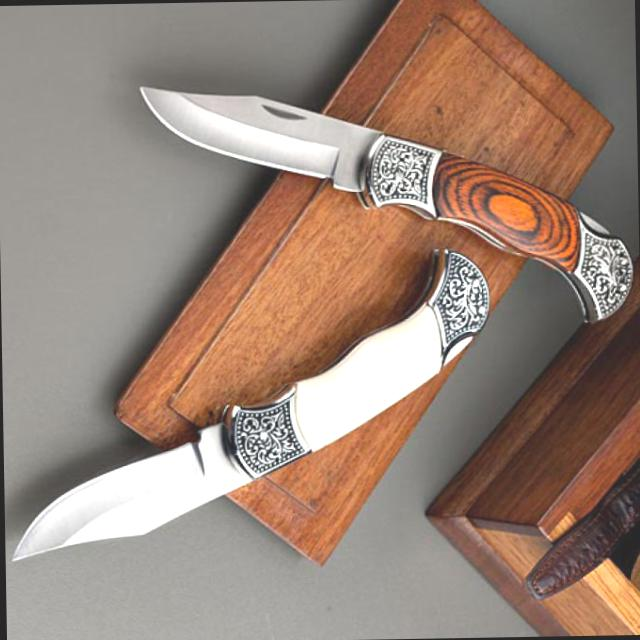knife: (5, 382, 302, 570), (126, 73, 469, 228)
